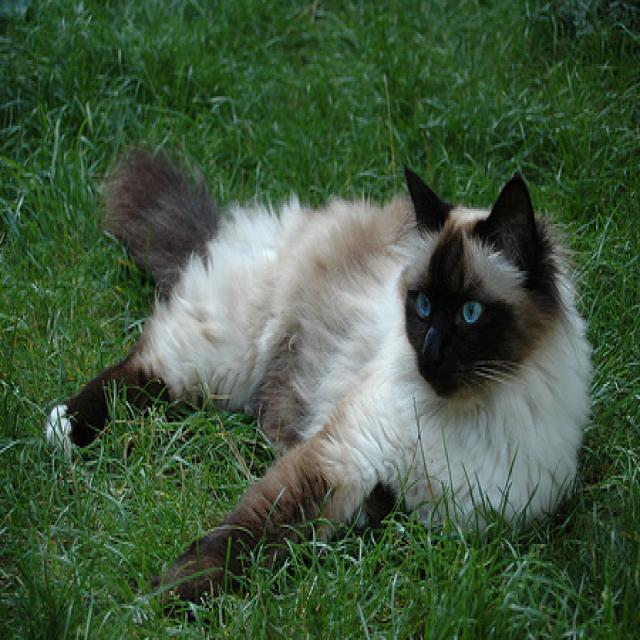Birman: (43, 142, 596, 630)
